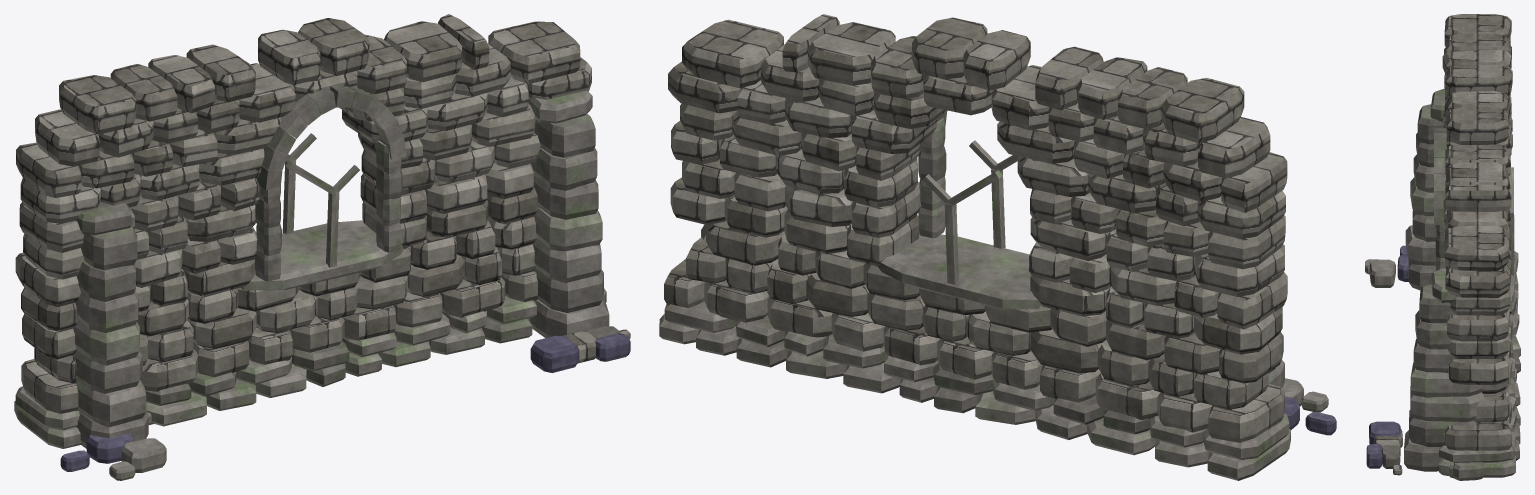
File: chapel-wall.glb
3 renders of one model, left to right at view 1: azimuth 30°, elevation 25°; view 2: azimuth 150°, elevation 25°; view 3: azimuth 270°, elevation 25°, orthographic. The views are drawn at different scales.
Visible parts, largest first — view 1: chapel-wall; view 2: chapel-wall; view 3: chapel-wall.
Boxes of the visible parts, bbox=[...] form: chapel-wall: bbox=[14, 14, 630, 480]; chapel-wall: bbox=[659, 14, 1336, 480]; chapel-wall: bbox=[1365, 14, 1520, 480].
Bounding box in the file's own units: 6.23 × 3.39 × 1.81.
3 materials, 3 textured.
